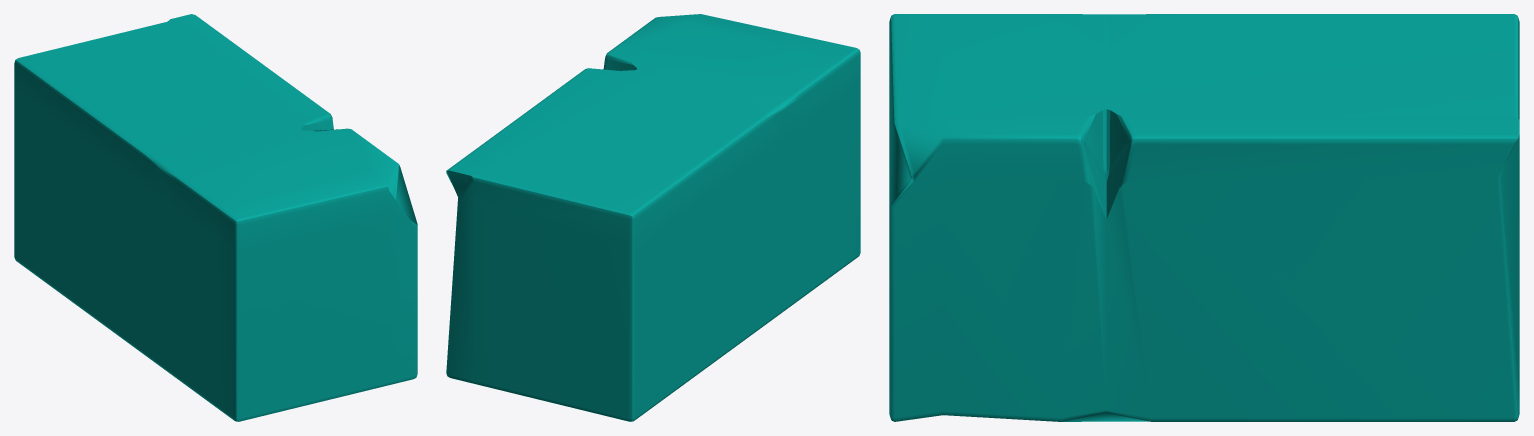
The model's file is block_isolet.fbx.
The picture shows the model from 3 angles, left to right: view 1: azimuth 30°, elevation 25°; view 2: azimuth 150°, elevation 25°; view 3: azimuth 270°, elevation 25°; orthographic projection. The views are drawn at different scales.
Parts seen in each view (by area): view 1: pCube239; view 2: pCube239; view 3: pCube239.
Boxes of the visible parts, x1=… form: pCube239: x1=14, y1=14, x2=417, y2=421; pCube239: x1=446, y1=14, x2=860, y2=421; pCube239: x1=889, y1=14, x2=1519, y2=421.
Bounding box in the file's own units: 2.19 × 2.31 × 4.6.
